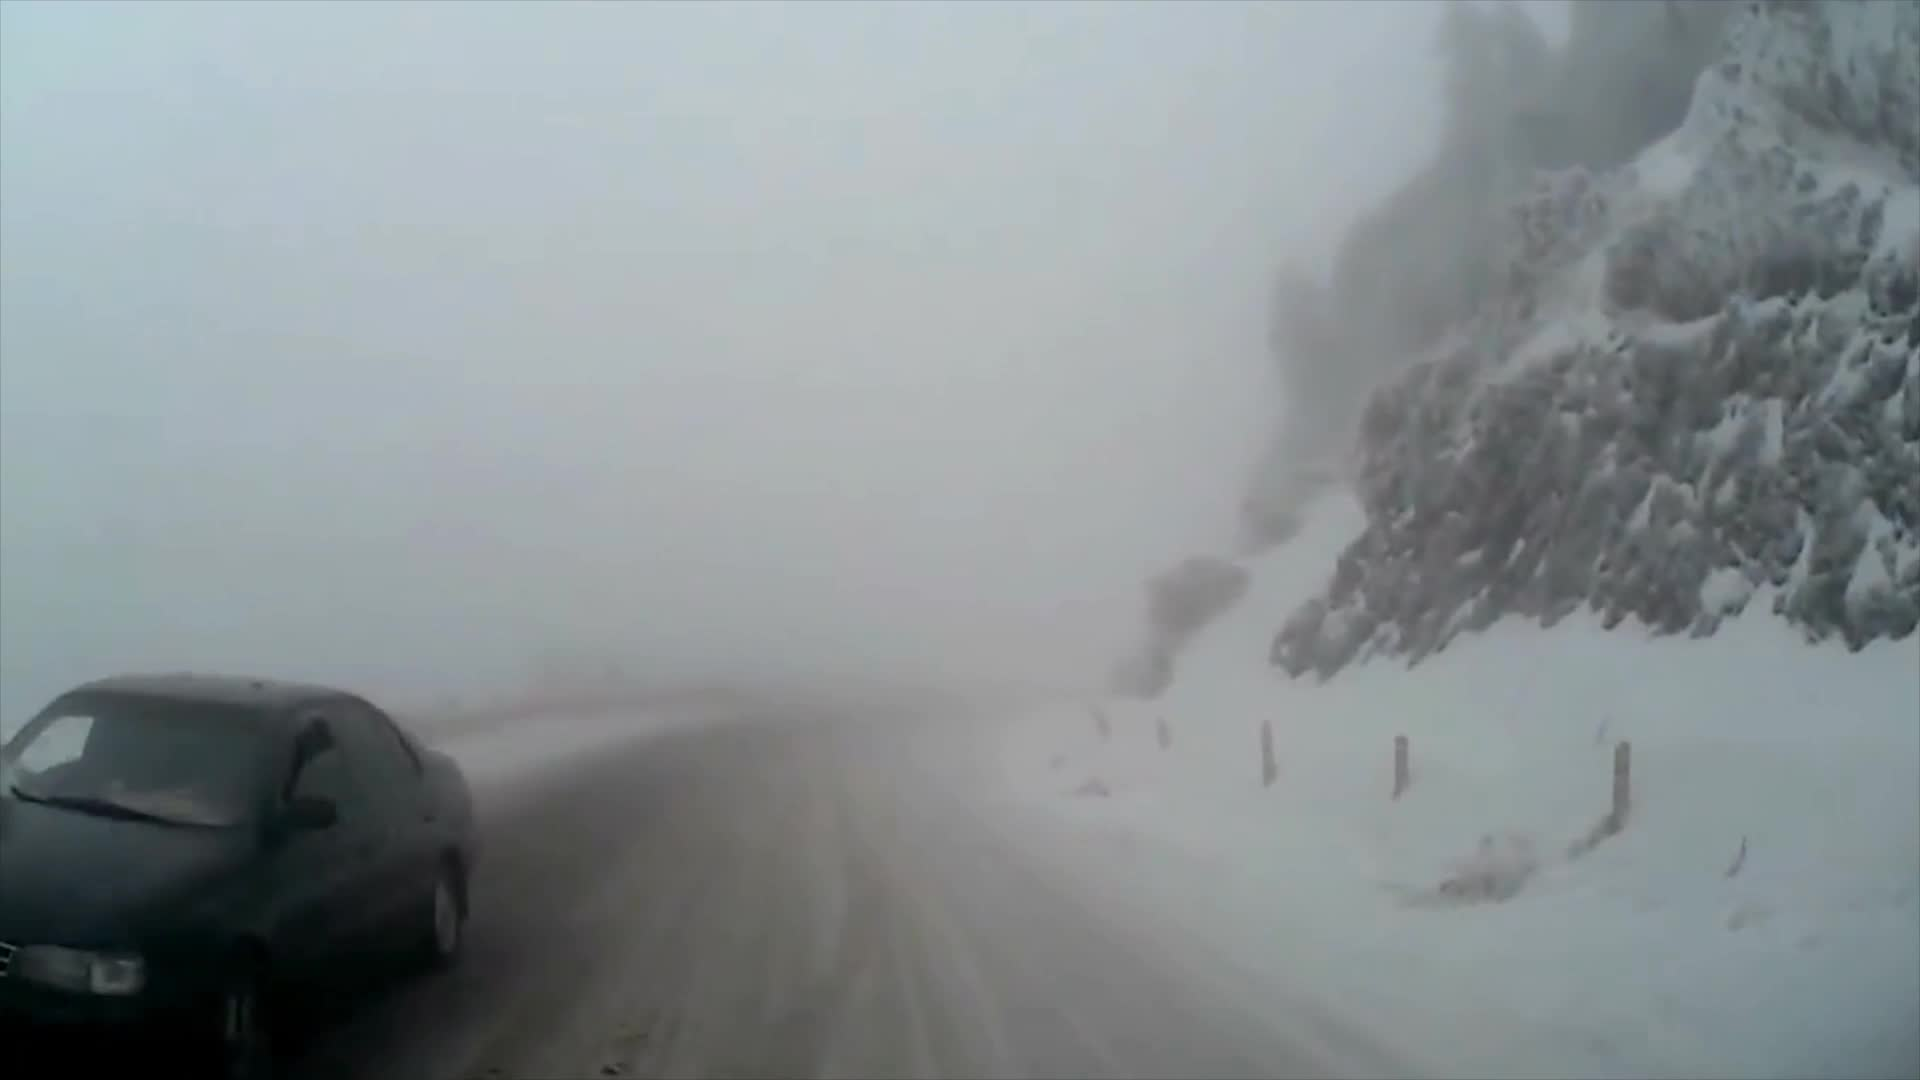vehicle: (0, 671, 481, 1080)
